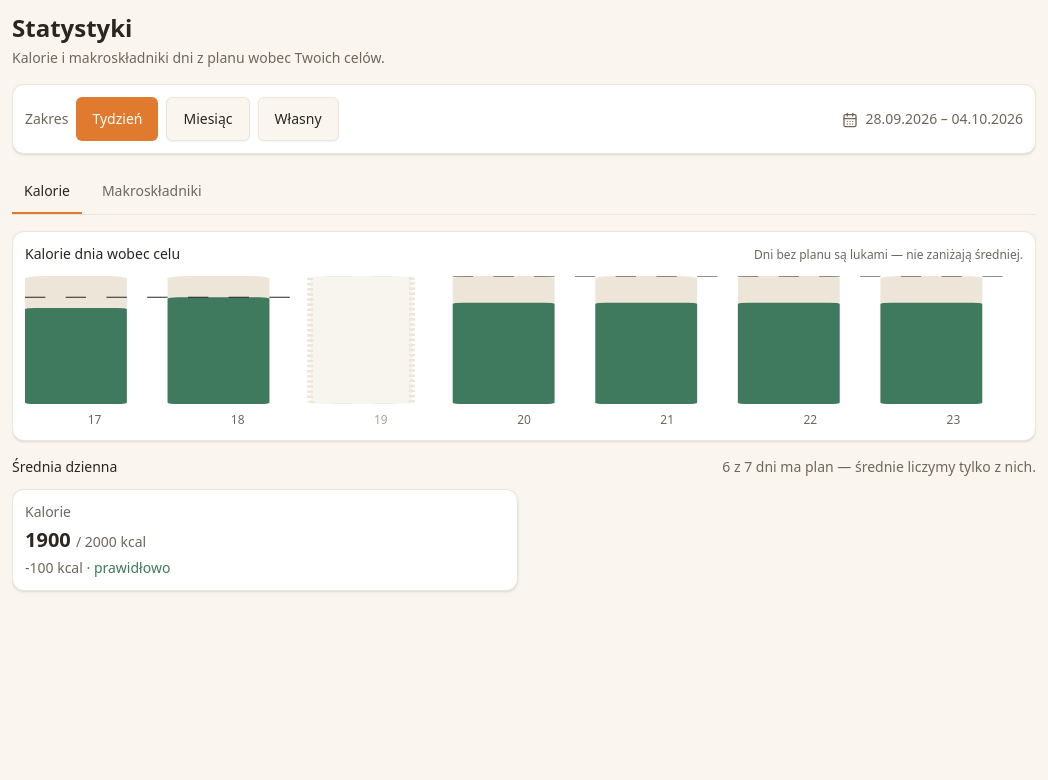
it: StatystykiPage › wyczyszczona data zakresu nie udaje ładowania ani pustych statystyk
The image size is (1048, 780).
Click the button with test id "stats-preset-custom". click: (298, 119)
box: left=258, top=97, right=339, bottom=141
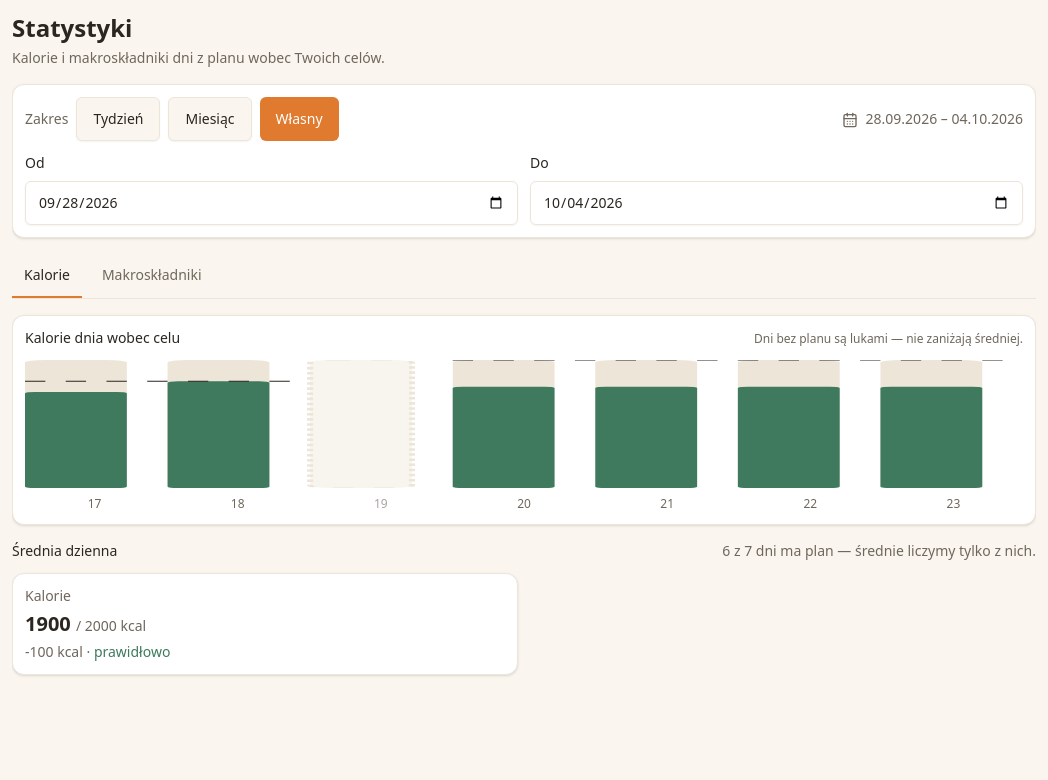
Clear the date field with test id "stats-to". click: (776, 203)
box: left=530, top=181, right=1023, bottom=225
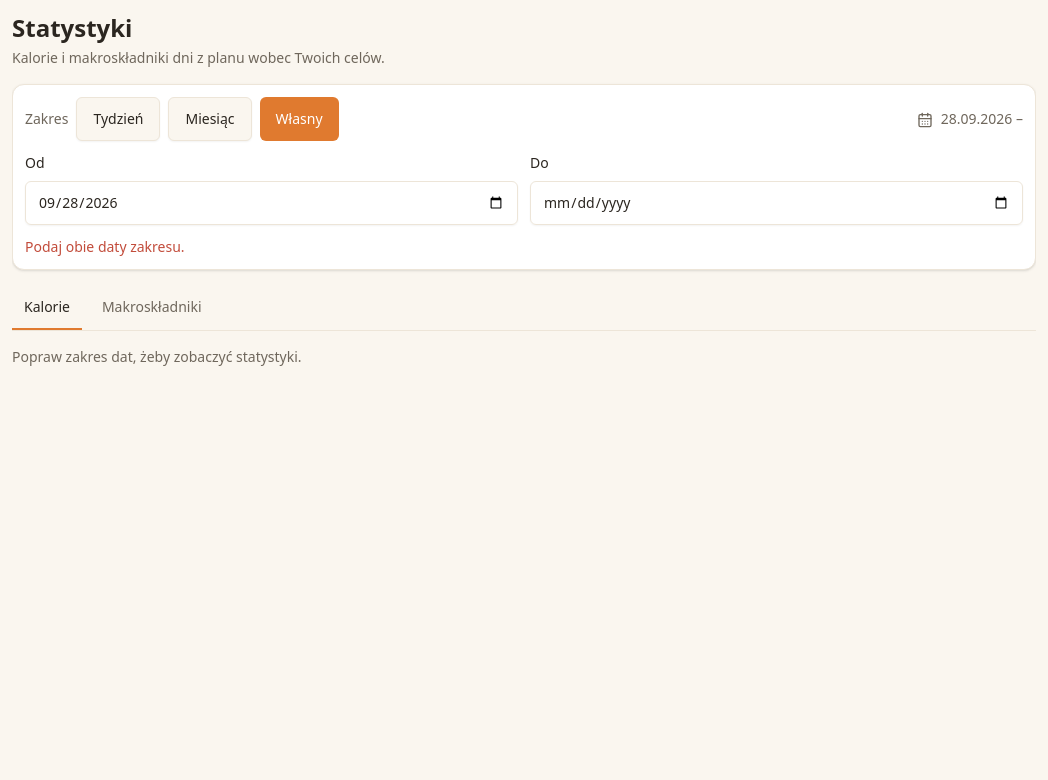
expect the message with test id "stats-error" shows "Podaj obie daty": met, box left=25, top=237, right=185, bottom=256
expect the text "Popraw zakres dat, żeby zobaczyć statystyki." is shown: met, box left=12, top=347, right=302, bottom=366
